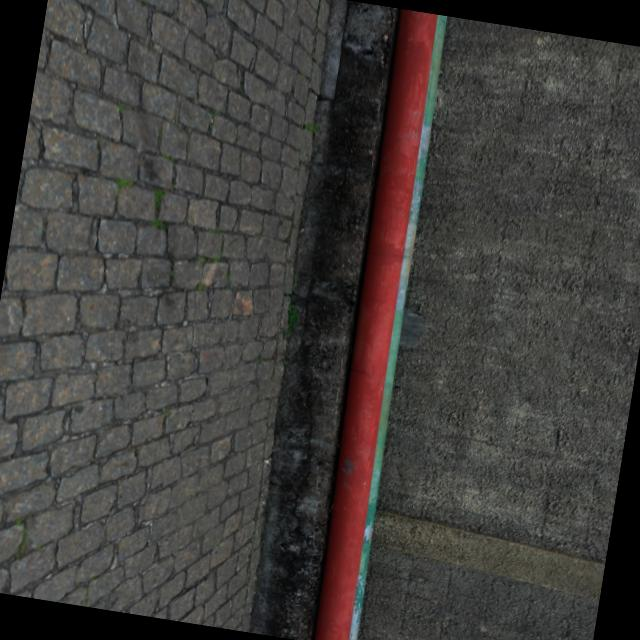gas: (297, 8, 450, 640)
